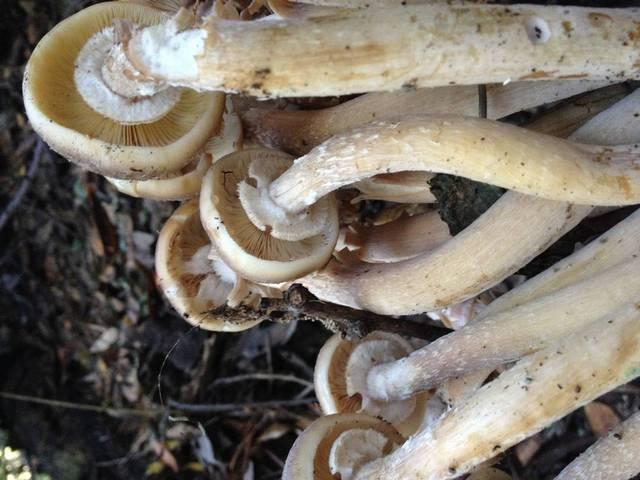Edible Mushroom: (265, 108, 638, 317), (21, 0, 227, 187), (275, 319, 510, 480), (154, 178, 275, 341)
